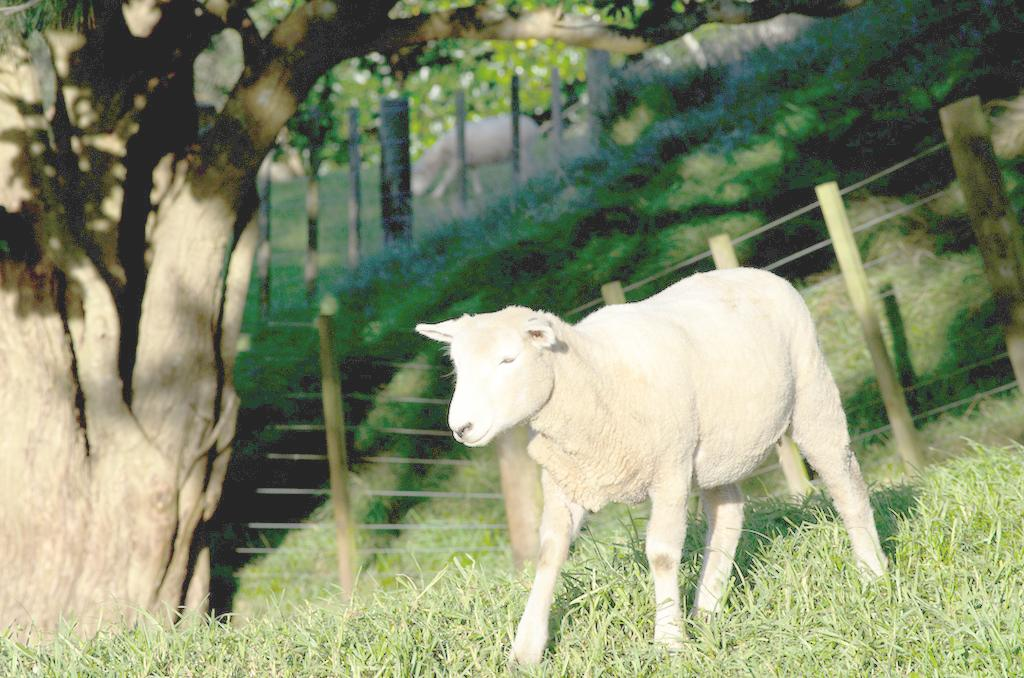Sheep: (414, 265, 888, 677)
